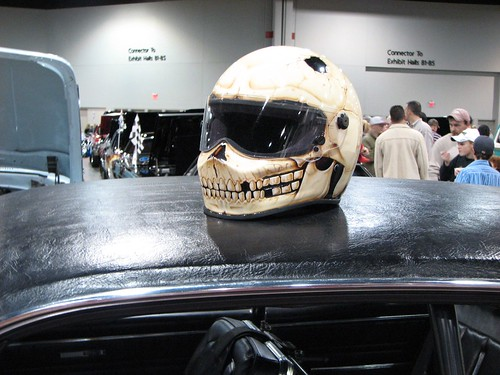helmet: (198, 43, 363, 215)
